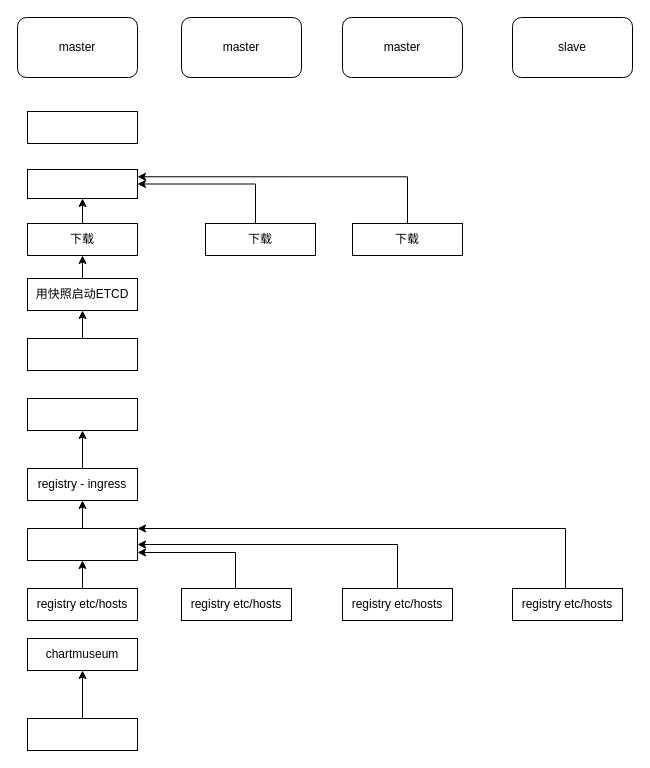
This 650x768 diagram has some shape labels left out. Here are the shapes that lost their labels. From the top down, the centre of each, then its label:
At [82,127]: "检查集群".
At [82,183]: "备份".
At [82,354]: "启动kubeverse".
At [82,414]: "registry".
At [82,544]: "registry 导入镜像".
At [82,734]: "helm add repo".
